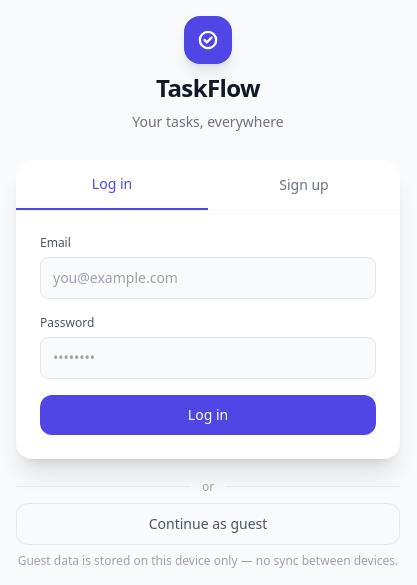
Scenario: AuthScreen – interactions › shows confirmation screen when signup returns "confirm"
Click the button "Sign up". click: {"x": 304, "y": 184}
box: [208,160,400,210]
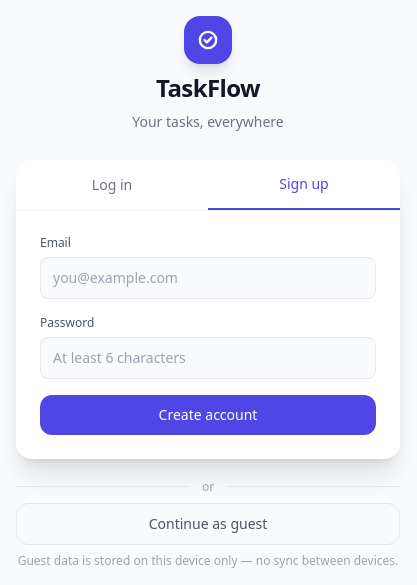
Type "new@example.com" into the field labelled "Email". click: {"x": 208, "y": 278}
box: [40,256,376,298]
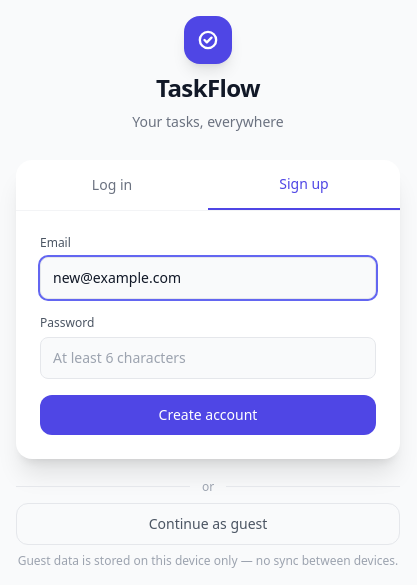
Type "password123" into the password field labelled "Password". click: {"x": 208, "y": 358}
box: [40,336,376,378]
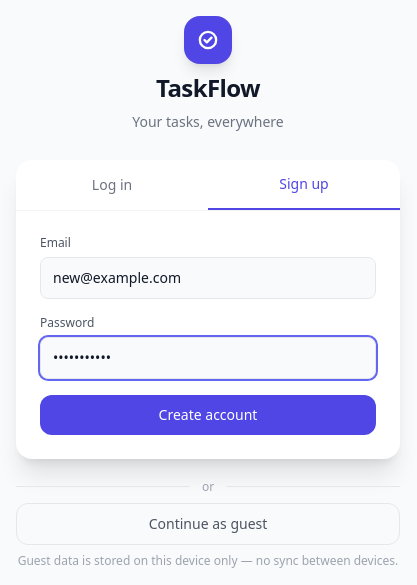
Click the button "Create account". click: {"x": 208, "y": 414}
box: [40,394,376,434]
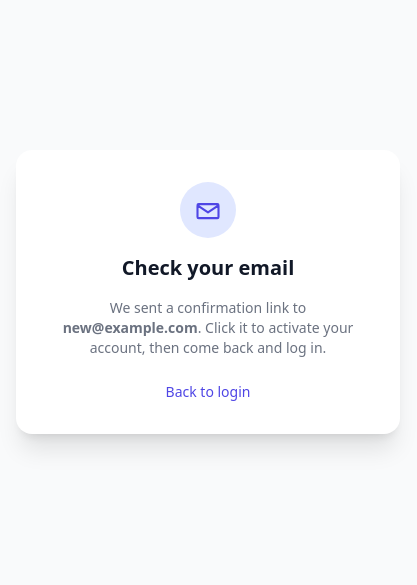
Check: the heading "Check your email" is shown, box [122,254,294,282]
